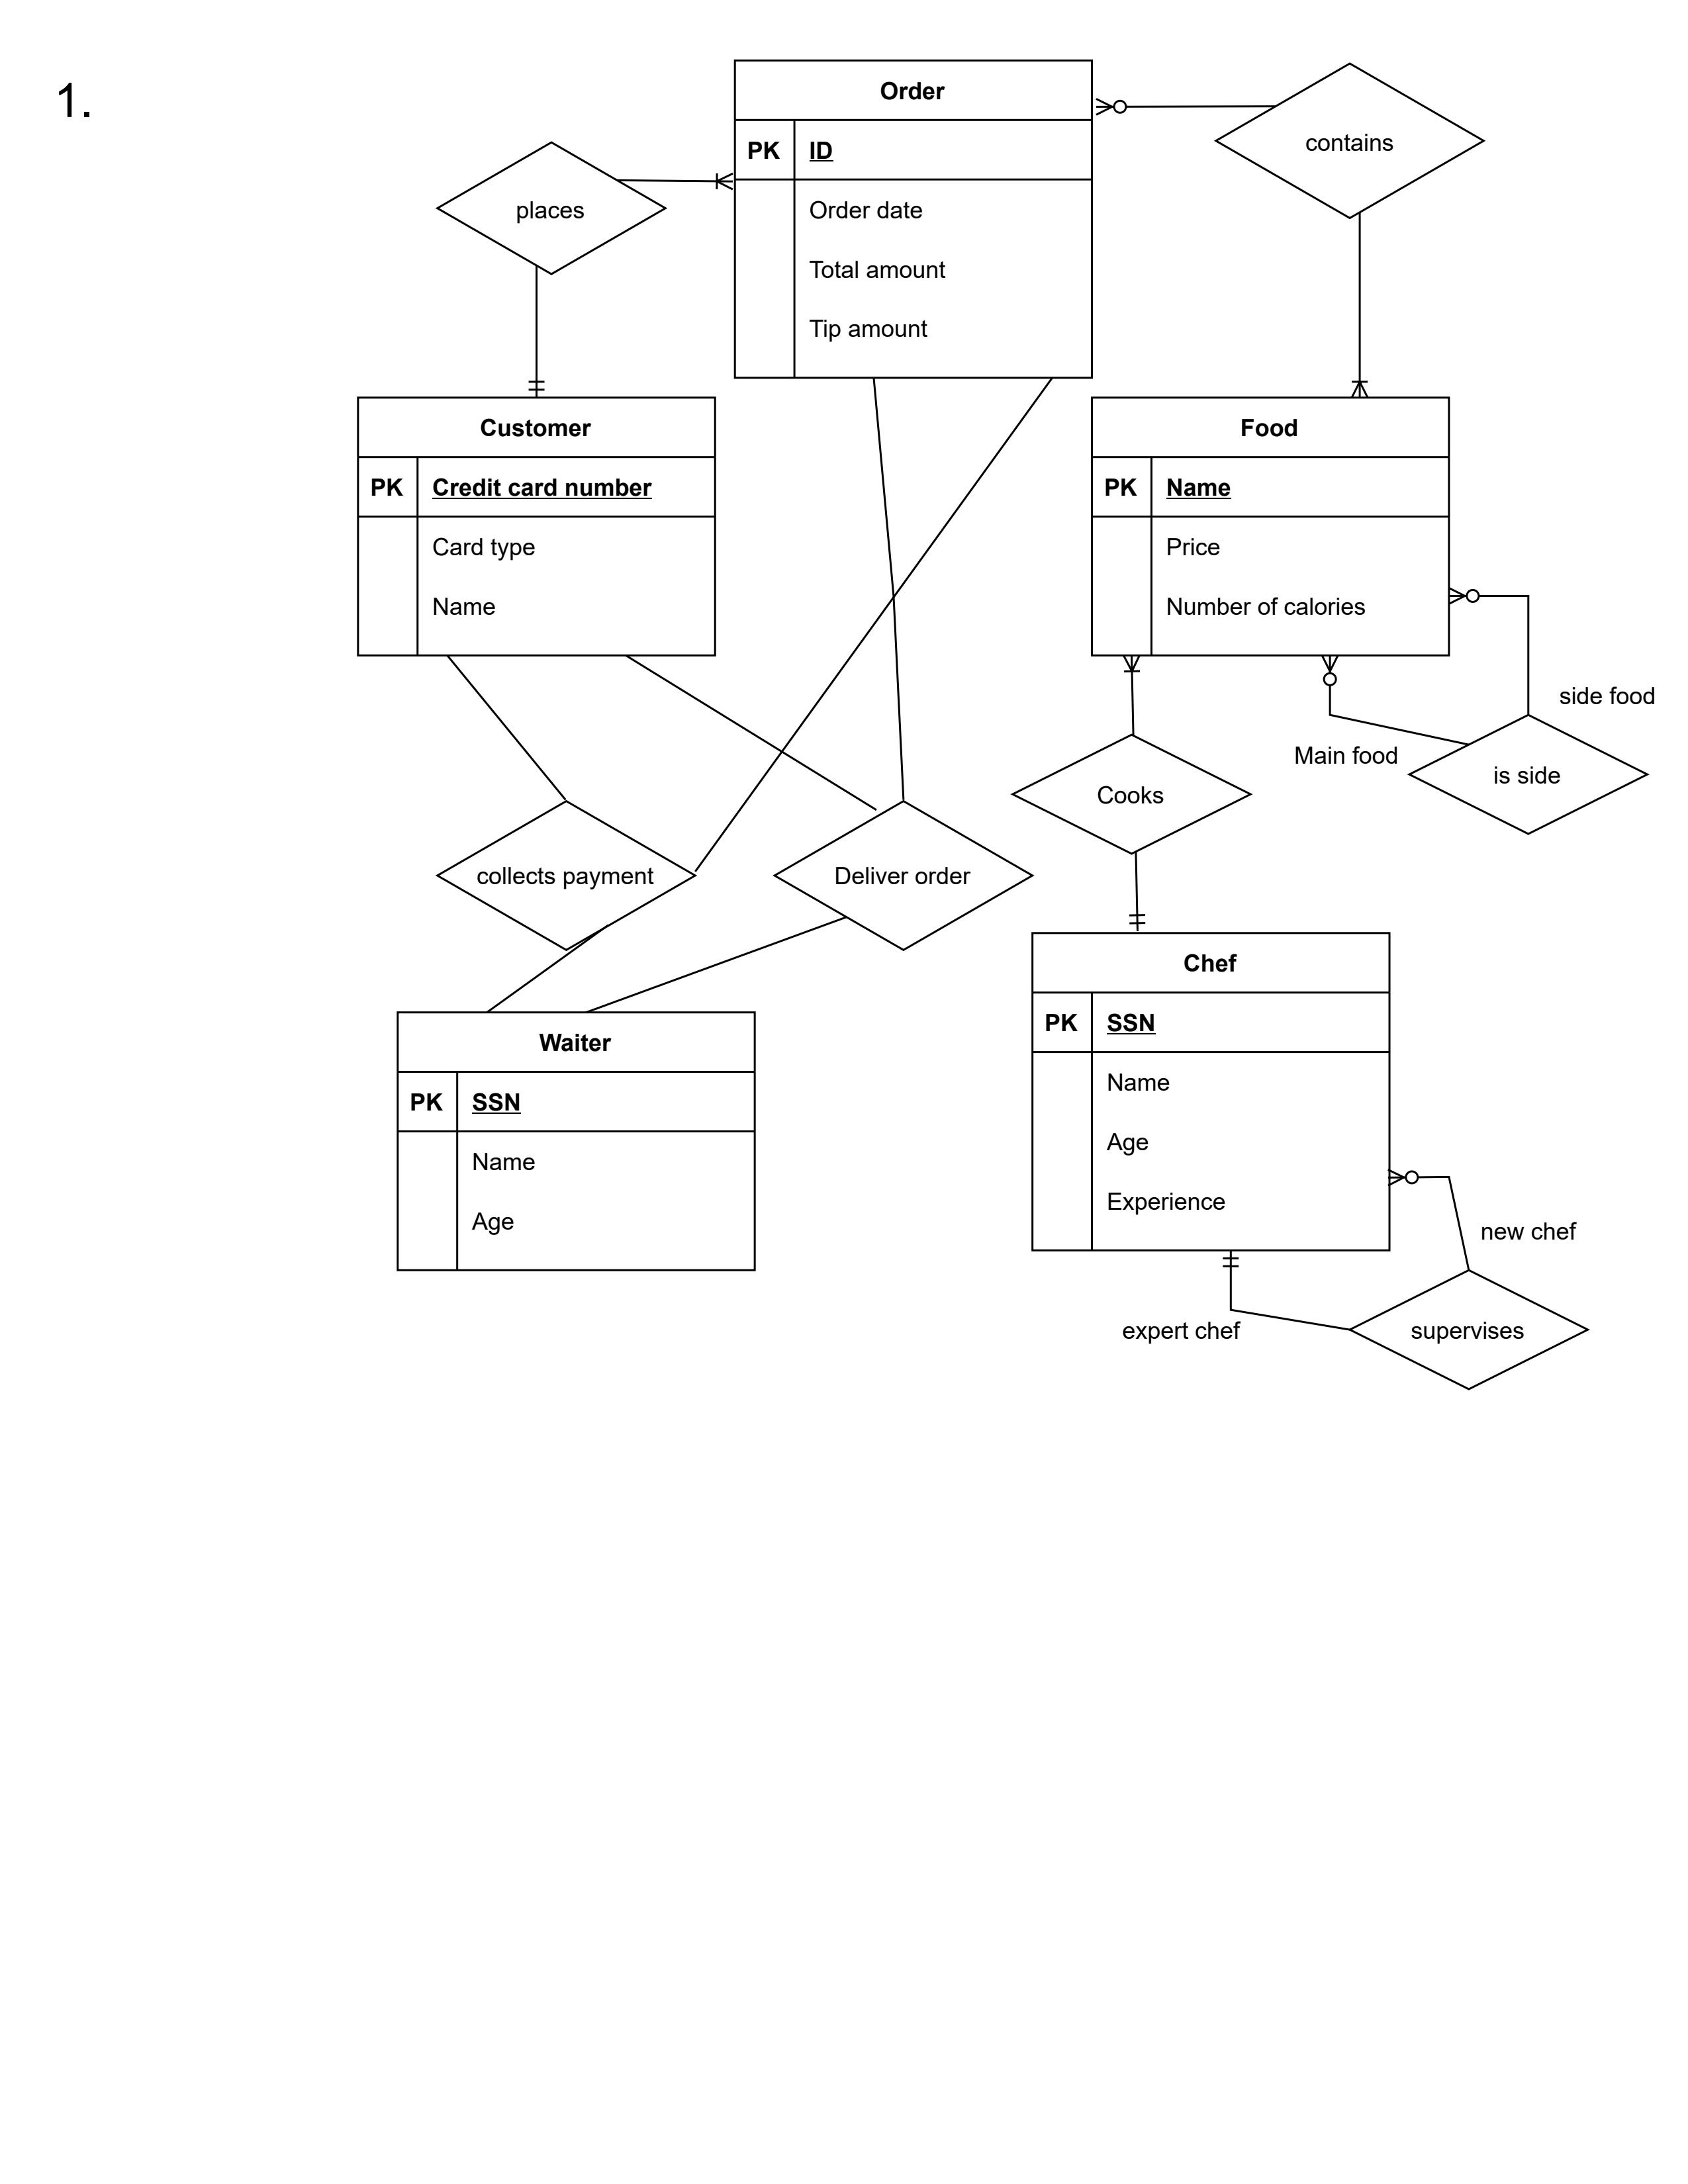Entity: (1030, 931, 1392, 1253), (732, 58, 1094, 379), (395, 1010, 757, 1273), (356, 395, 718, 658), (1090, 395, 1450, 658)
Relationship: (1215, 62, 1484, 220), (434, 799, 697, 950), (773, 801, 1034, 950), (436, 140, 667, 273), (1349, 1269, 1590, 1392), (1011, 734, 1252, 854), (1408, 714, 1649, 833)
